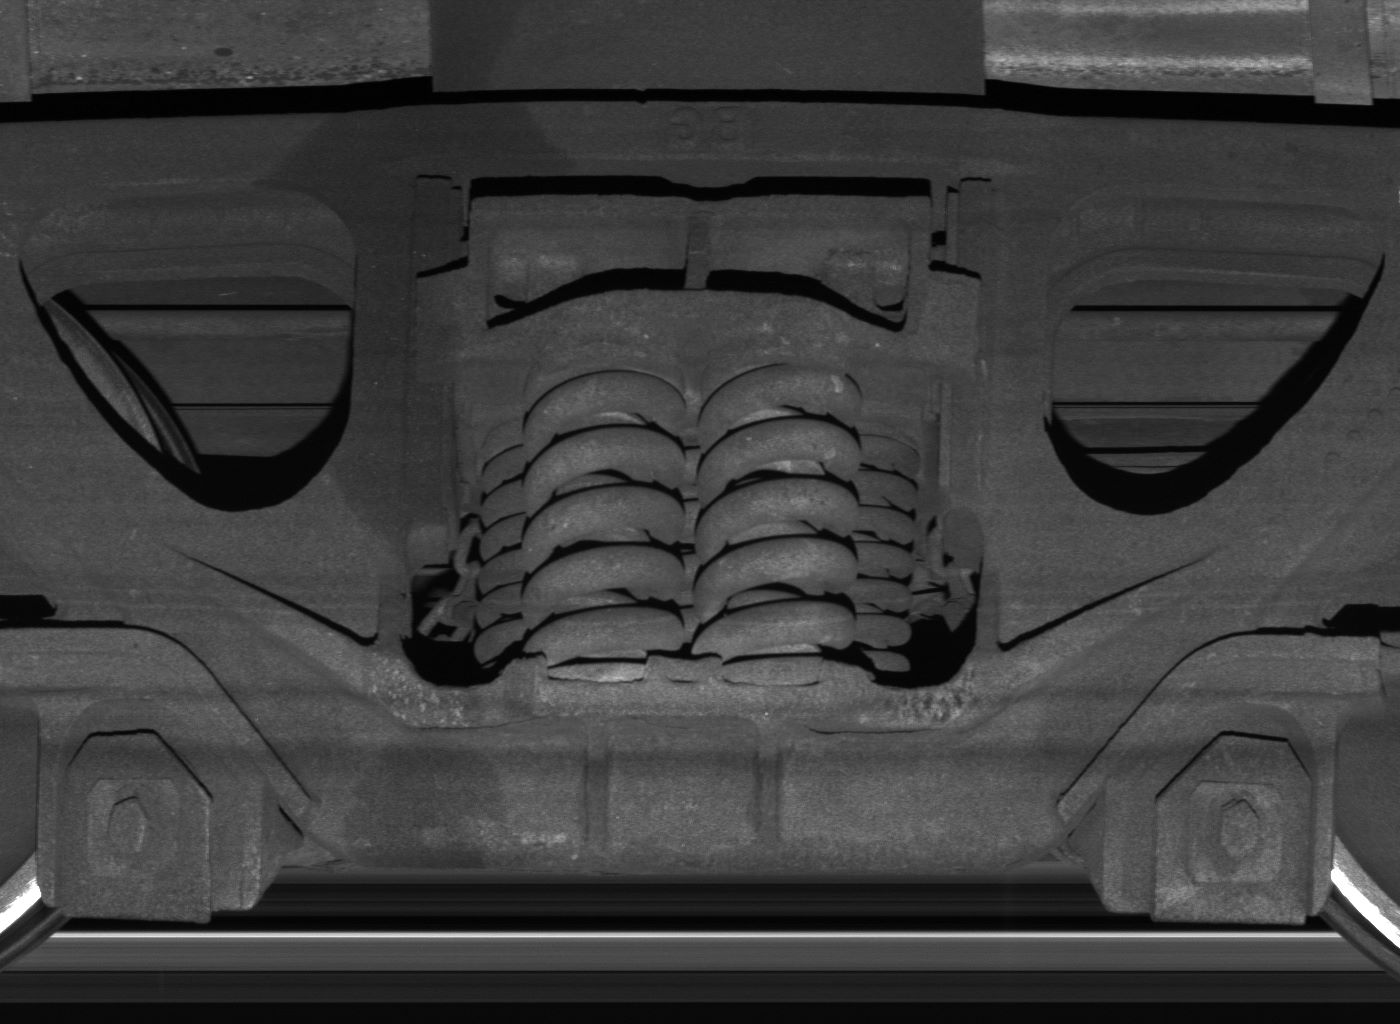normal: (1098, 699, 1336, 925), (36, 701, 257, 921)
